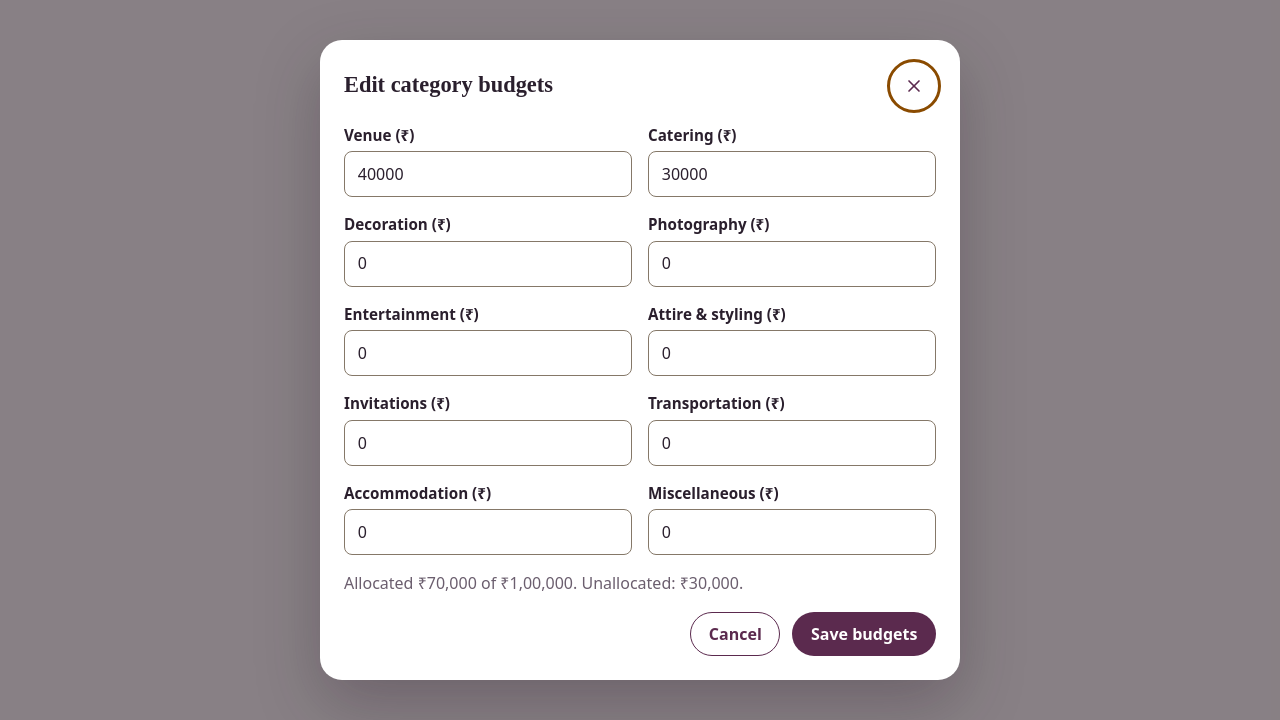
it: AllocationDialog › shows an error banner and stays open when the save fails
This screenshot has width=1280, height=720.
Click the button "Save budgets". click: (864, 634)
box: [792,612,936,656]
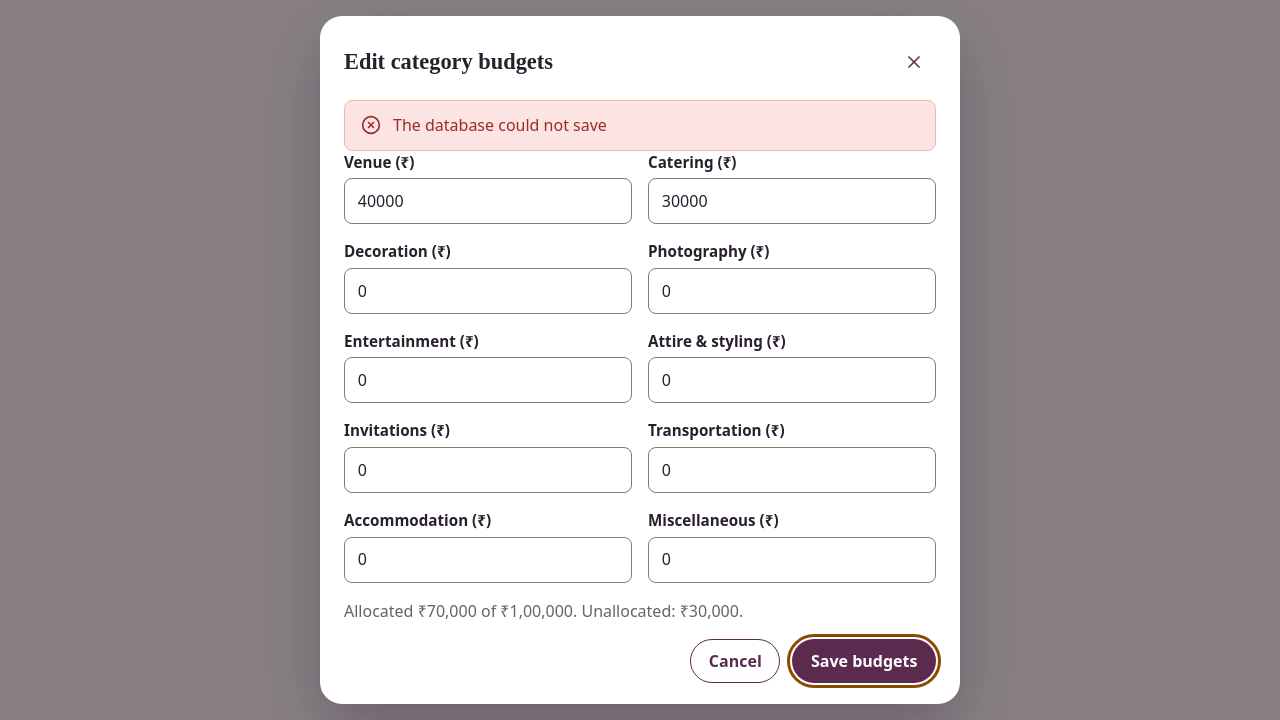
Check: the text "The database could not save" is shown, box [393,113,607,138]
